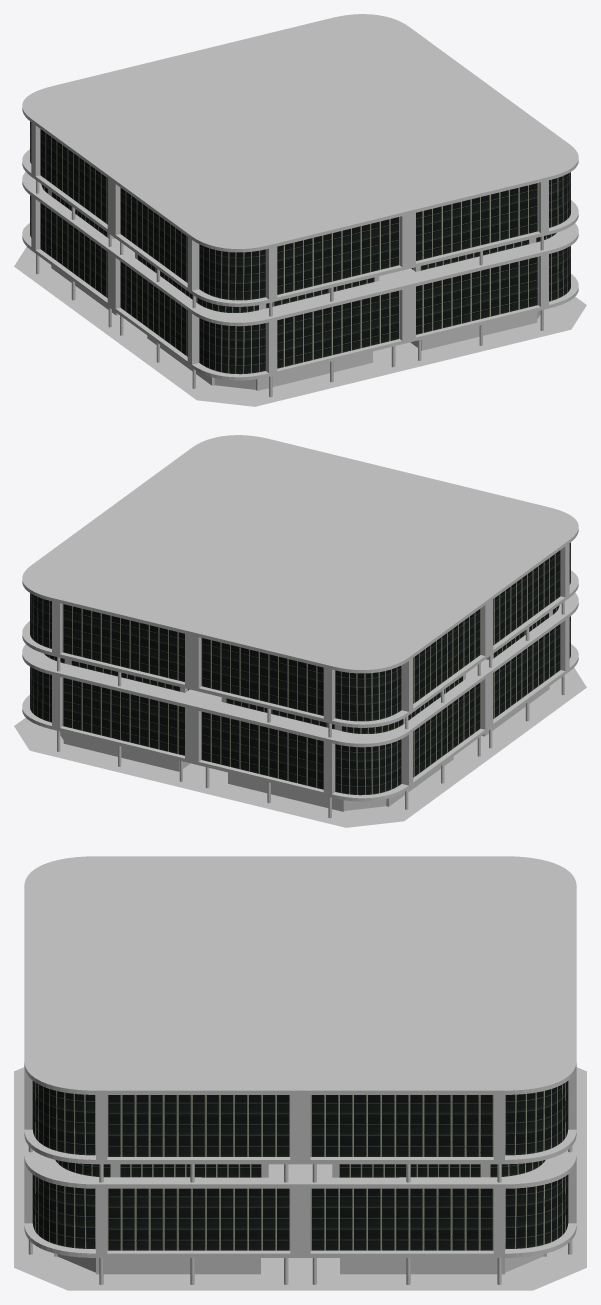
3 renders of one model, top to bottom at view 1: azimuth 30°, elevation 25°; view 2: azimuth 150°, elevation 25°; view 3: azimuth 270°, elevation 25°, orthographic. The views are drawn at different scales.
Parts seen in each view (by area): view 1: QD-01; view 2: QD-01; view 3: QD-01.
Boxes of the visible parts, x1,y1,x2,y2 form: QD-01: (14, 14, 586, 406); QD-01: (14, 435, 586, 827); QD-01: (14, 856, 586, 1290).
Size of what is drawn, in the model's own units: 72 by 27.2 by 72.
